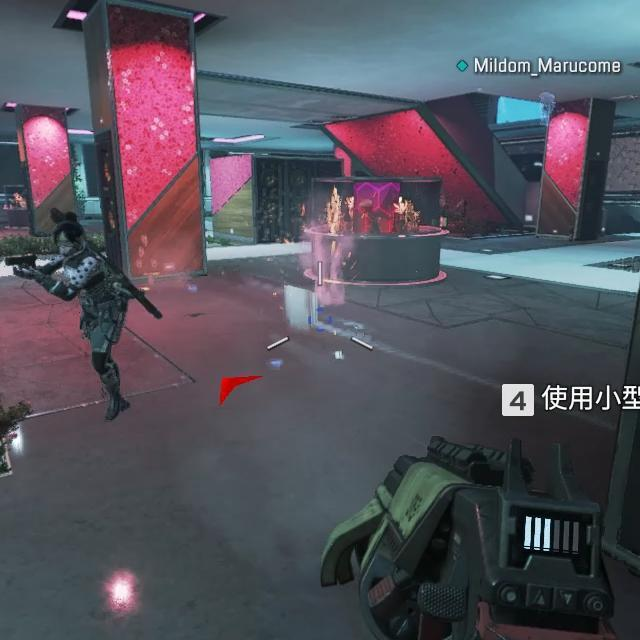avatar: (50, 219, 128, 410)
